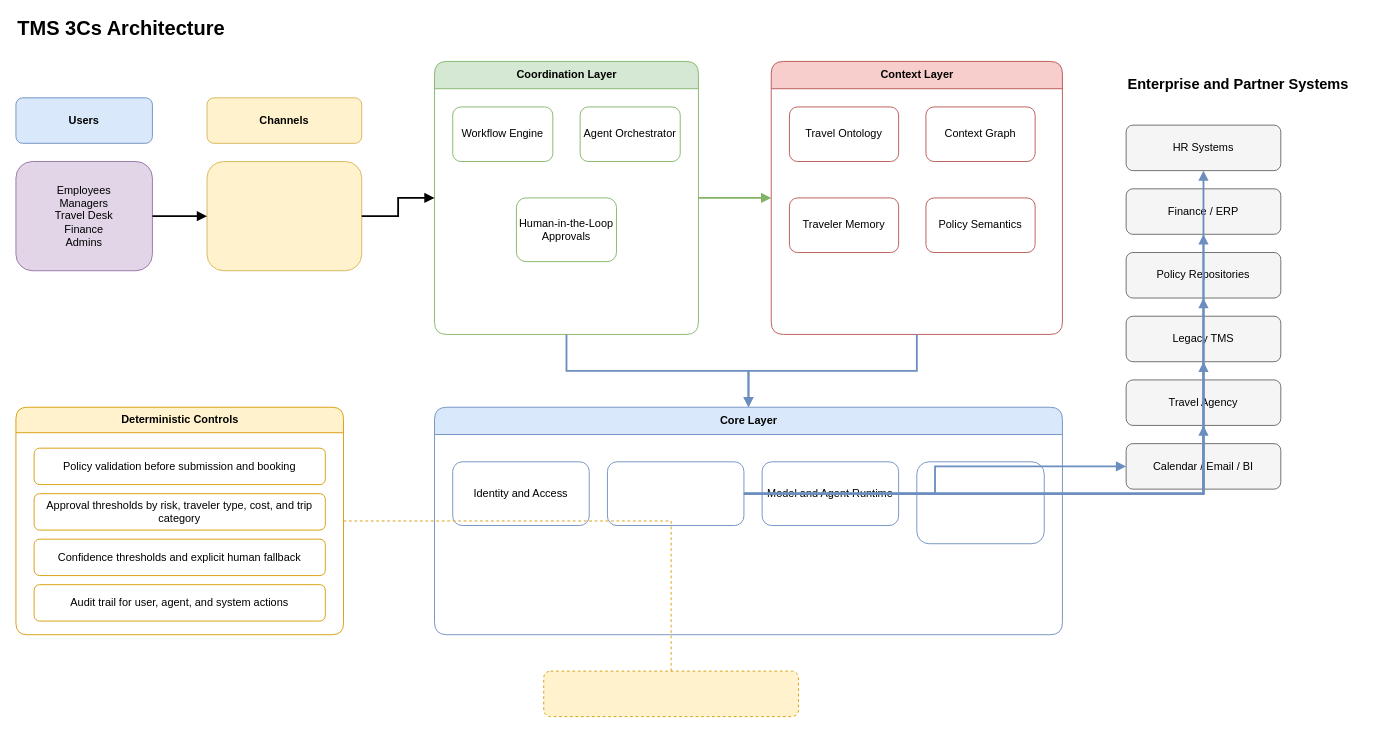
The diagram is 1379 pixels wide and 733 high, and some of its shapes have lost their labels. Each missing label, with the centre of its shape:
"Governed execution across all layers" belongs at [671,693].
"Integration Services" belongs at [675,493].
"Observability Audit FinOps" belongs at [980,502].
"Portal Email Chat Mobile" belongs at [284,216].
